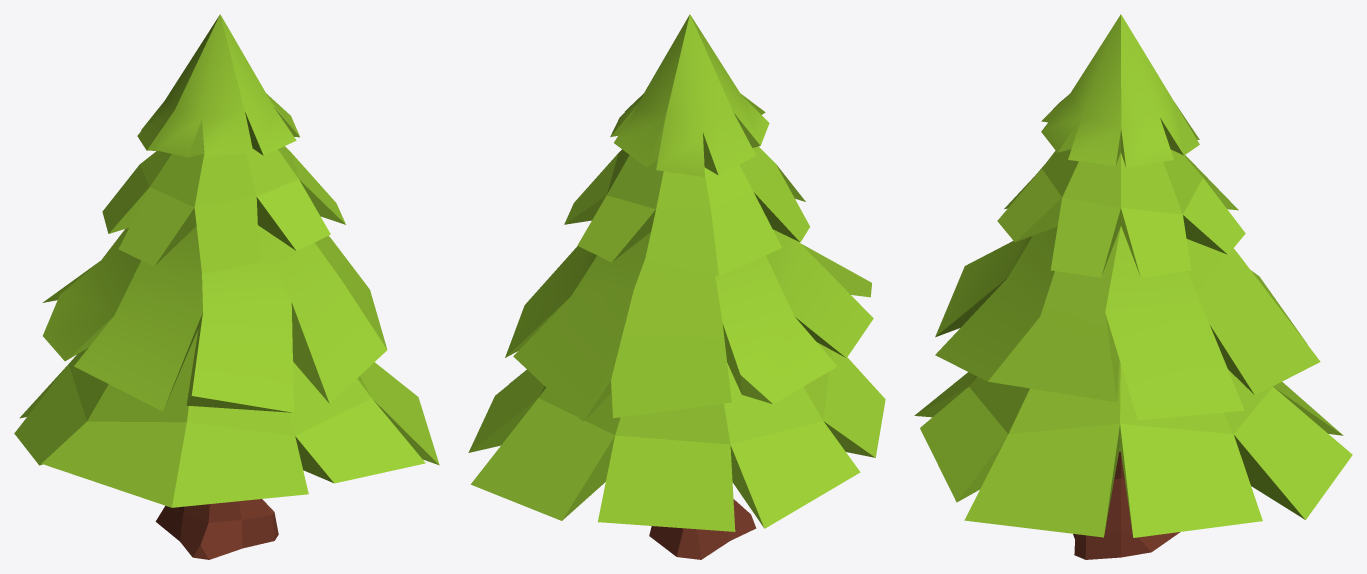
The model's file is maya_export_Tree1_v4.fbx.
The picture shows the model from 3 angles, left to right: view 1: azimuth 30°, elevation 25°; view 2: azimuth 150°, elevation 25°; view 3: azimuth 270°, elevation 25°; orthographic projection.
Parts seen in each view (by area): view 1: Tree1_v4; view 2: Tree1_v4; view 3: Tree1_v4.
Boxes of the visible parts, box(x1,y1,x2,y2) form: Tree1_v4: box(14, 14, 439, 559); Tree1_v4: box(468, 14, 885, 559); Tree1_v4: box(914, 14, 1352, 559).
Size of the model in its own units: 3.69 by 4.9 by 3.71.
1 material, 1 textured.
